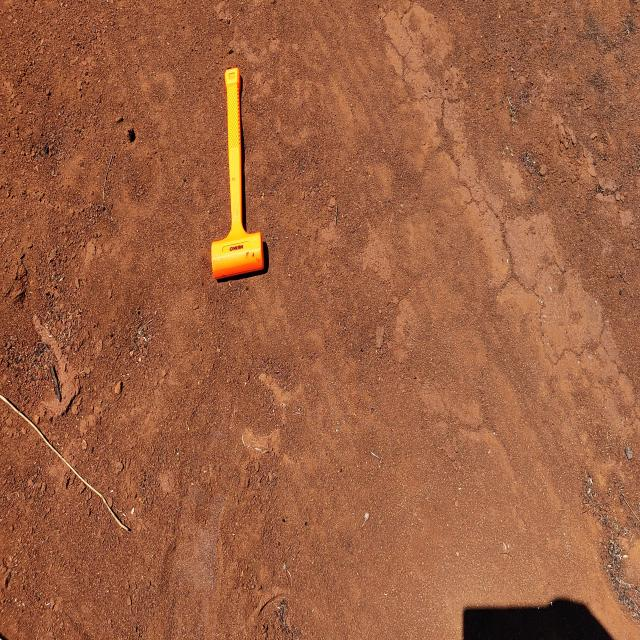Orange_hammer: (210, 65, 265, 282)
